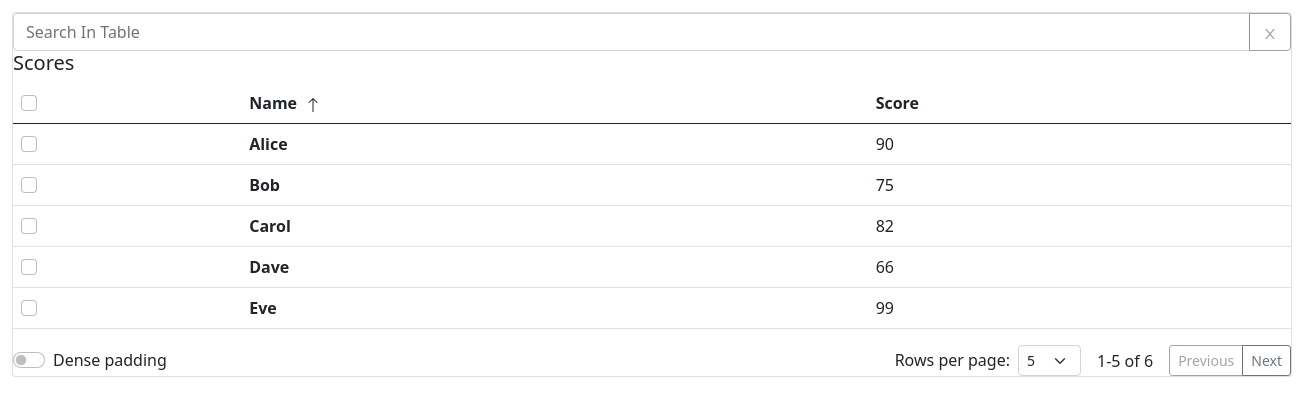
Test case: EnhancedTable › sorts, searches, selects rows, and paginates
Expected: the text "Alice" is shown, [241,124,868,164]
Expected: the text "Frank" is not shown
Select "5" in the dropdown labelled "Rows per page:": (1050, 360) [1018,345,1081,376]
Click the button "Next": click(1267, 360) [1242,345,1291,376]
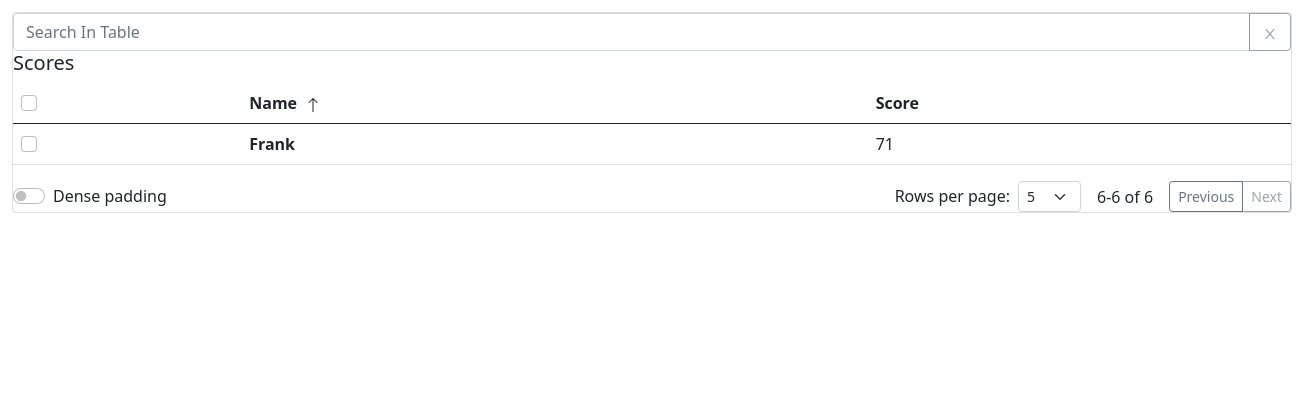
Expected: the text "Frank" is shown, [241,124,868,164]
Click the text "Score": click(897, 103) [876,92,919,114]
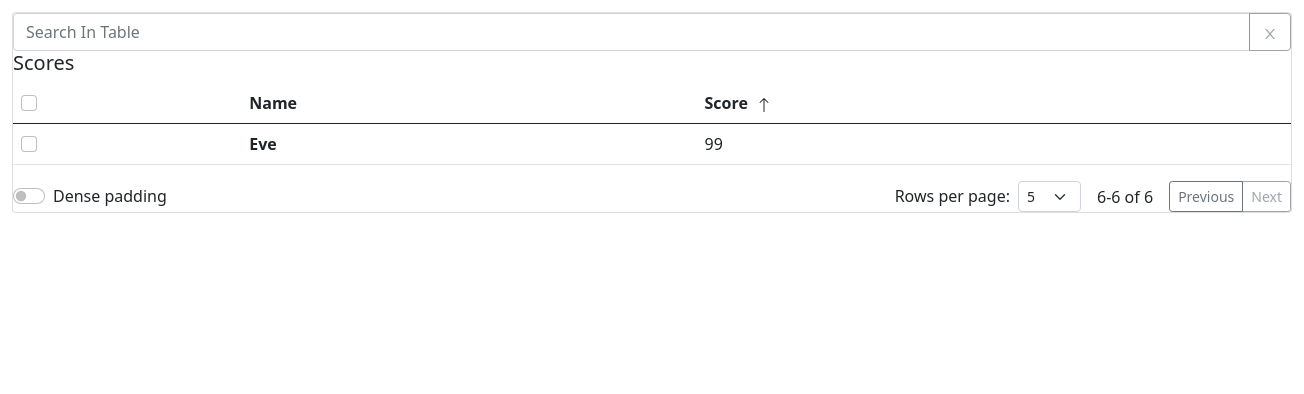
Click the text "Score": click(738, 103) [704,92,772,114]
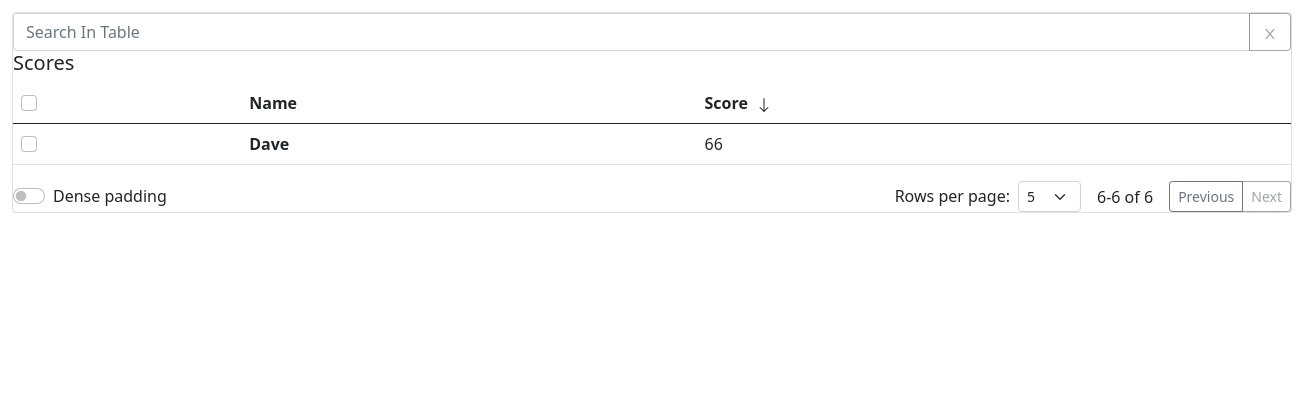
In the field with placeholder "Search In Table": (632, 32) [13,13,1250,51], type "car"
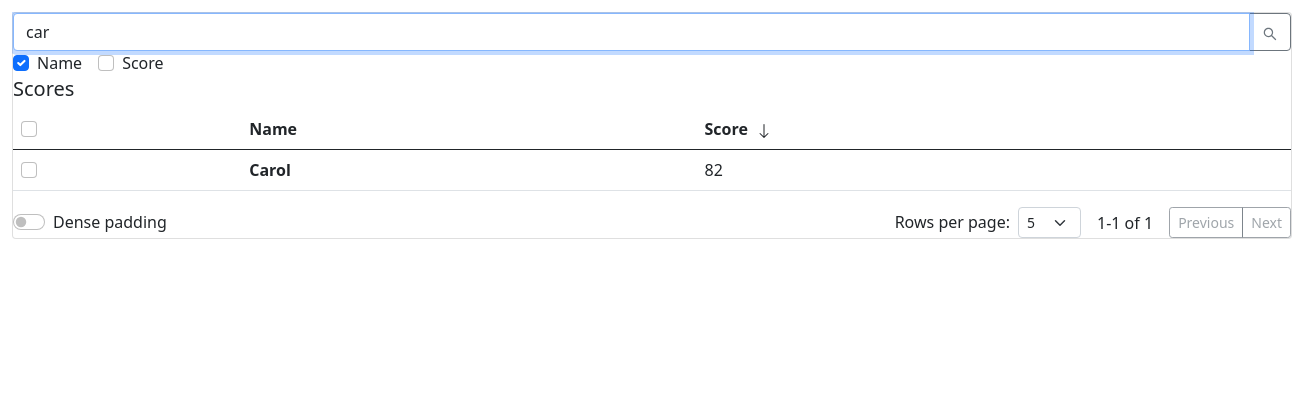
Click the button titled "Filter table": click(1270, 32) [1249,13,1291,51]
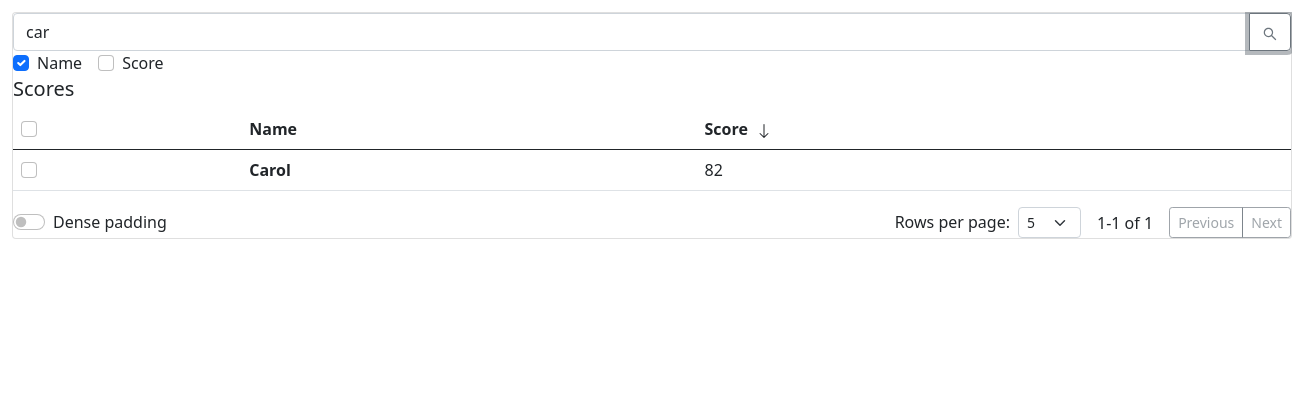
Expected: the text "Alice" is not shown
Expected: the text "Carol" is shown, [241,150,696,190]
Click the checkbox named "select all entries": click(29, 129) [21,121,37,137]
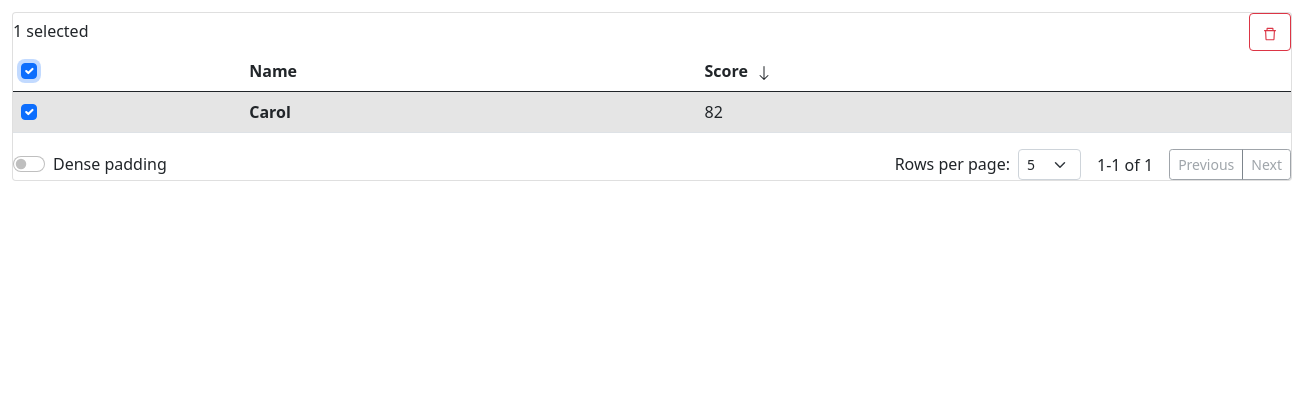
Expected: the heading "1 selected" is shown, [13,22,88,42]
